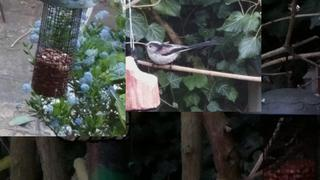long tailed tit: (144, 40, 221, 70)
